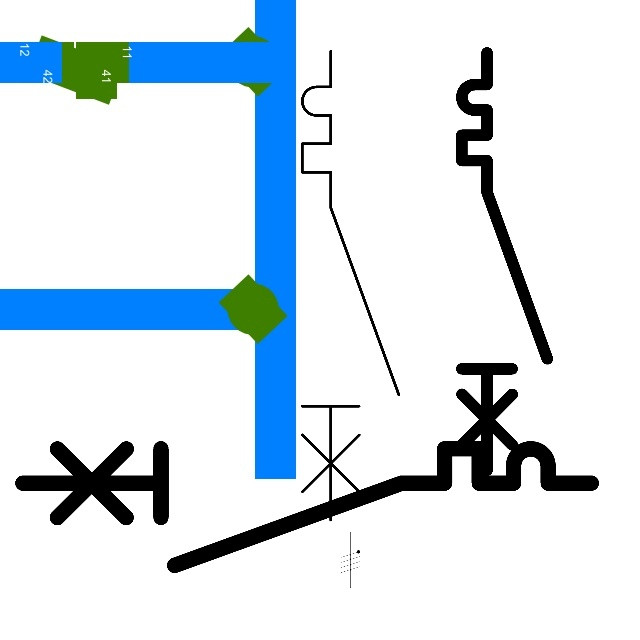interruptor_termomagnetico: (8, 434, 606, 580), (290, 39, 410, 532), (451, 42, 558, 481)
